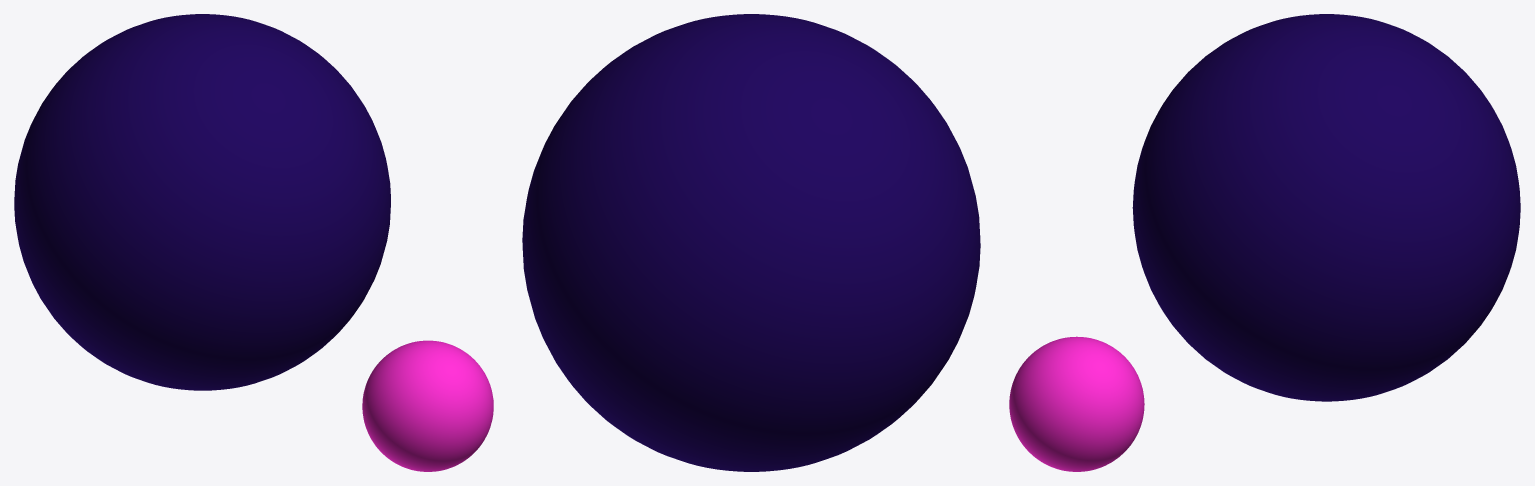
File: Spheres8K.FBX
The picture shows the model from 3 angles, left to right: view 1: azimuth 30°, elevation 25°; view 2: azimuth 150°, elevation 25°; view 3: azimuth 270°, elevation 25°; orthographic projection. The views are drawn at different scales.
Visible parts, largest first — view 1: Object001; view 2: Object001; view 3: Object001.
Part boxes in pixels (box(x1,y1,x2,y2)): Object001: box(14, 14, 493, 471); Object001: box(522, 14, 980, 471); Object001: box(1009, 14, 1520, 471).
Bounding box in the file's own units: 9699 × 10524 × 12787.
